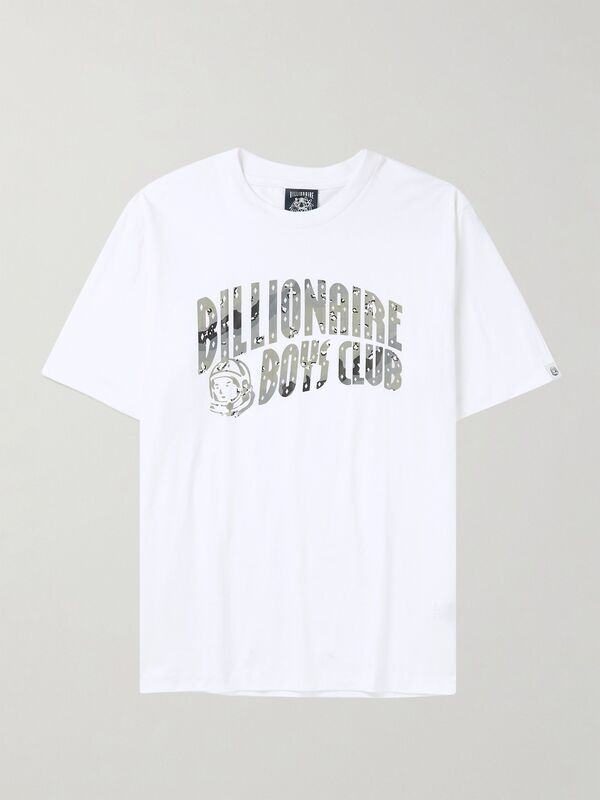tshirt: (36, 142, 563, 702)
